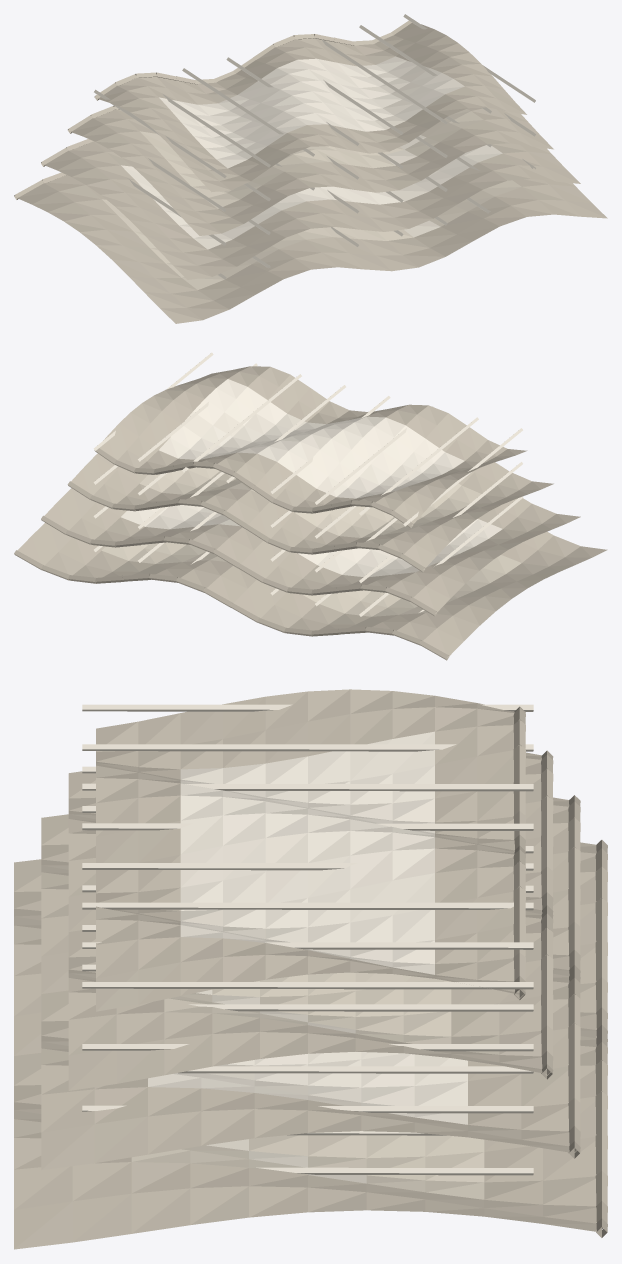
File: linen.glb
3 views of the same model, one above another, from view 1: azimuth 30°, elevation 25°; view 2: azimuth 150°, elevation 25°; view 3: azimuth 270°, elevation 25° (orthographic). The views are drawn at different scales.
Parts seen in each view (by area): view 1: linen; view 2: linen; view 3: linen.
Part boxes in pixels (x1,y1,x2,y2): linen: (14,14,607,323); linen: (14,352,607,660); linen: (14,689,607,1249).
Bounding box in the file's own units: 1.35 × 0.3898 × 0.869.
